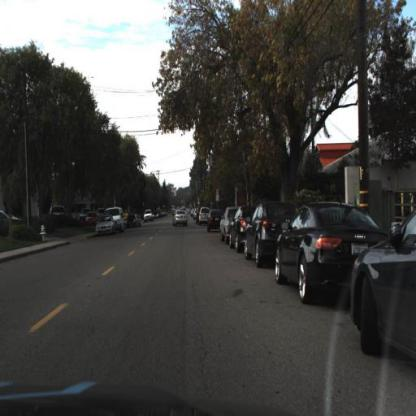car: (275, 200, 387, 306), (351, 198, 416, 367), (276, 197, 356, 309), (242, 198, 302, 265), (244, 202, 278, 267), (231, 204, 257, 255), (228, 202, 249, 258), (92, 211, 118, 238), (49, 203, 67, 230), (171, 209, 189, 230), (124, 209, 139, 230)
